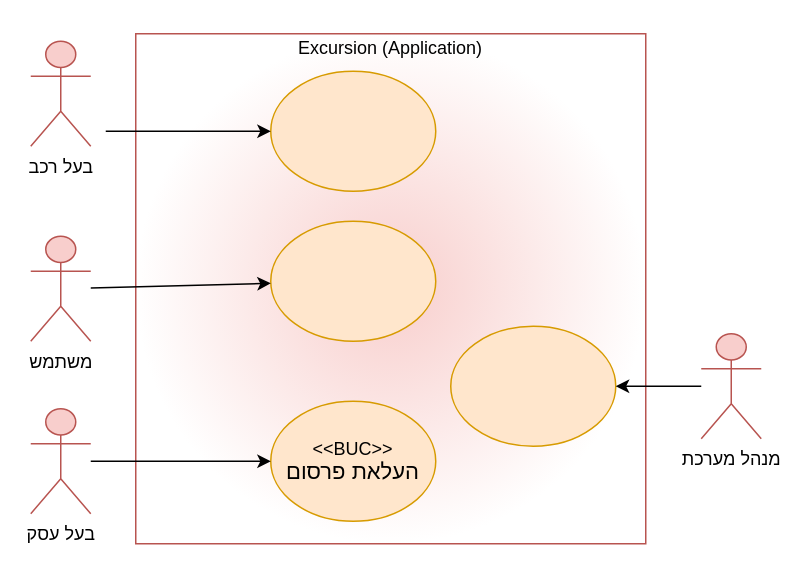
The diagram is 806 pixels wide and 570 high, and some of its shapes have lost their labels. Here are the shapes that lost their labels. From the top down, the box of each, then its label:
(269, 70, 436, 191): <<BUC>> הצטרפות וארגון טיולים ומפגשים
(269, 220, 436, 341): <<BUC>> הצטרפות למפגש
(449, 325, 616, 446): <<BUC>> ניהול מערכת
